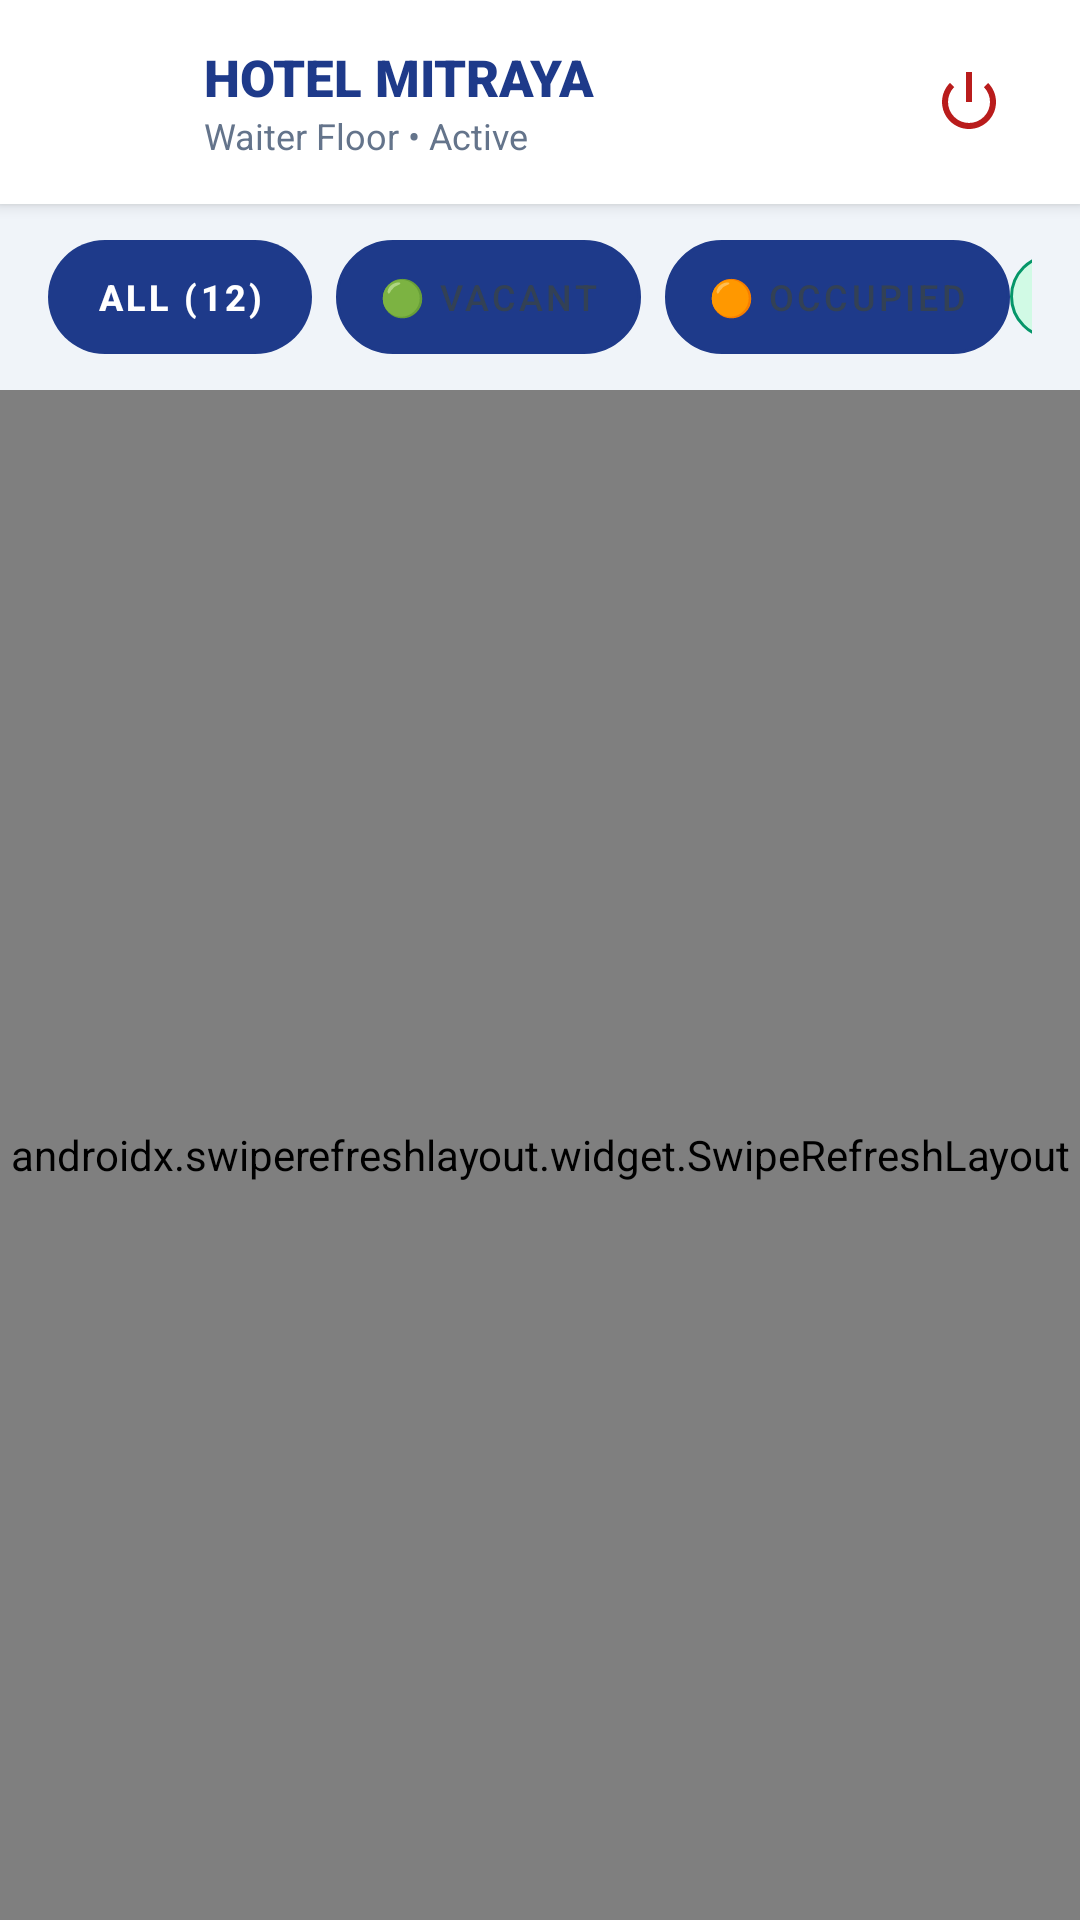

Point at icon controls on the screen. Image size 1080*1920, points as (x=x, y=y).
lock power off: (x=969, y=100)
